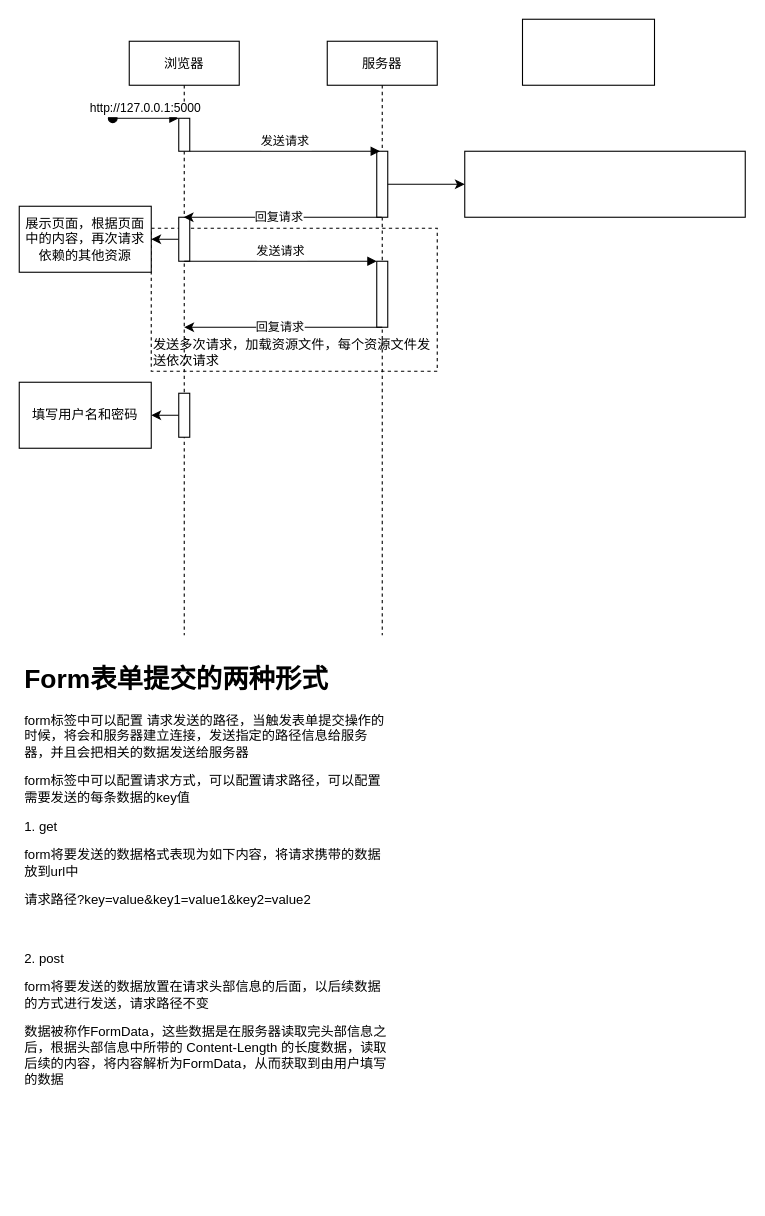
Image size: 765x1216. Some labels were removed from this diagram. Each missing label, with the box of its shape:
url：资源路径: (521, 18, 654, 85)
从请求中读取请求信息 请求信息中包含url 因为路径为 / 因此返回pages/login.html的资源: (464, 150, 745, 217)
